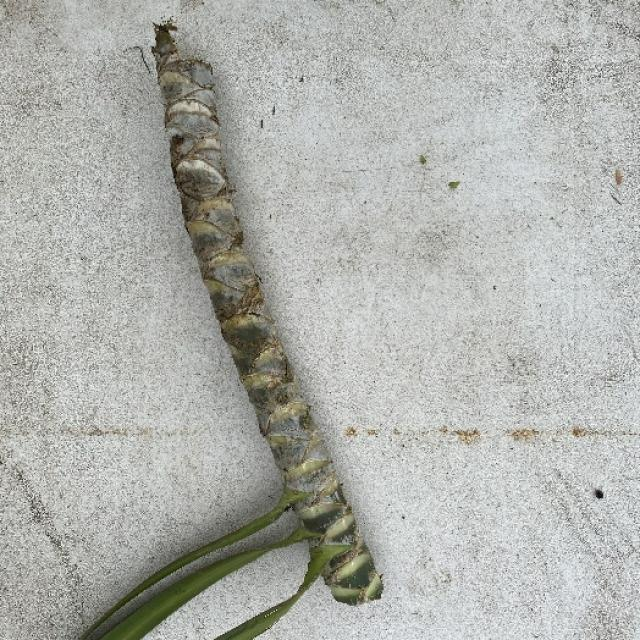wet: (153, 23, 259, 311)
